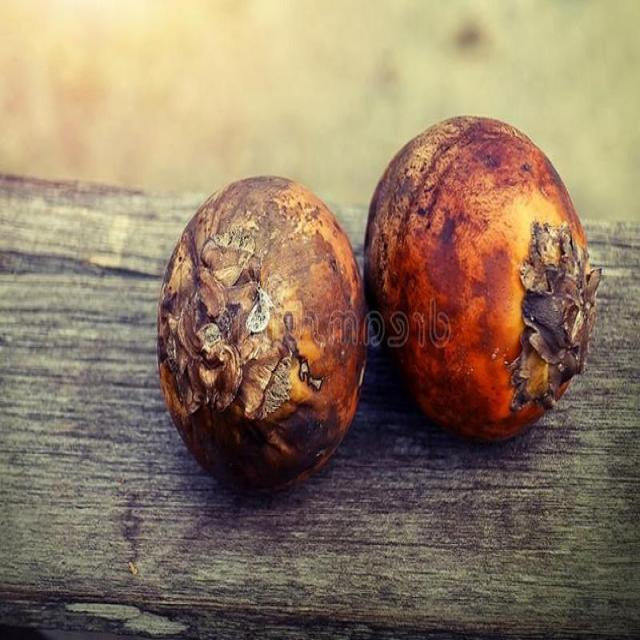damaged: (363, 116, 601, 447), (157, 178, 368, 492)
